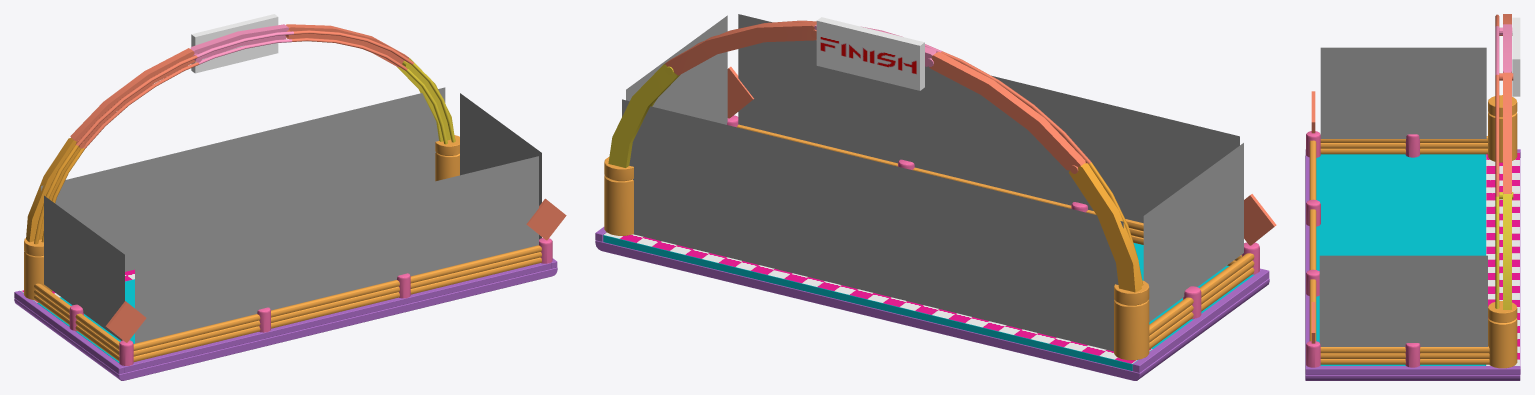
The model's file is SFP0210003.fbx.
3 views of the same model, side by side, from view 1: azimuth 30°, elevation 25°; view 2: azimuth 150°, elevation 25°; view 3: azimuth 270°, elevation 25° (orthographic). The views are drawn at different scales.
Visible parts, largest first — view 1: smSFP0210003, Trigger_Wall; view 2: smSFP0210003, Trigger_Wall; view 3: smSFP0210003.
Boxes of the visible parts, bbox=[...] form: smSFP0210003: bbox=[14, 14, 566, 380]; Trigger_Wall: bbox=[41, 87, 445, 271]; smSFP0210003: bbox=[595, 14, 1276, 380]; Trigger_Wall: bbox=[622, 99, 1123, 351]; smSFP0210003: bbox=[1305, 14, 1520, 380].
Bounding box in the file's own units: 2024 × 961 × 800.
